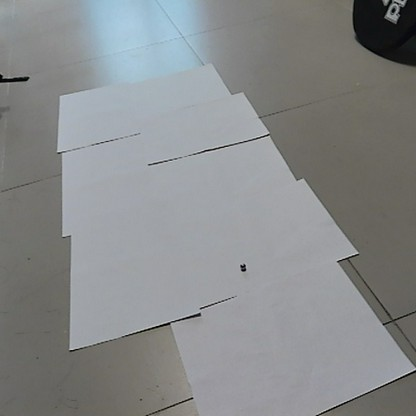ironball: (238, 259, 247, 272)
